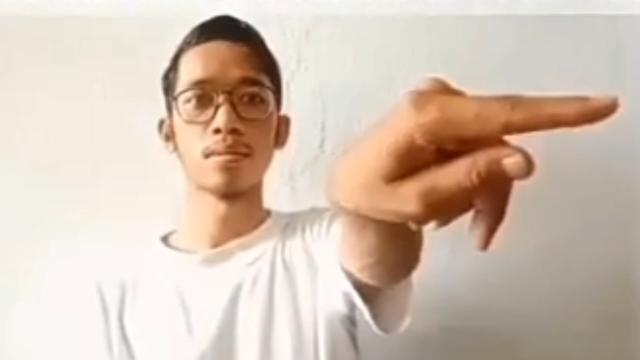P: (322, 71, 624, 253)
